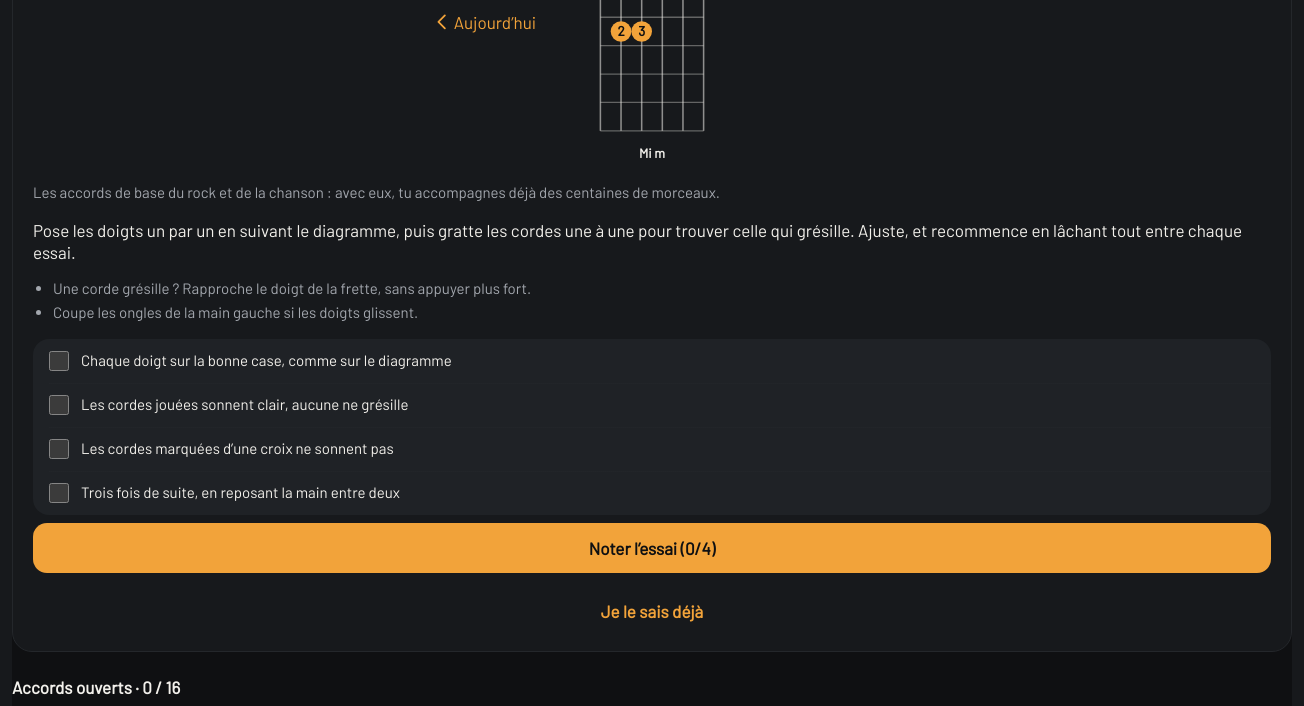
Scenario: parcours des accords › cocher la forme et noter l’essai : validée, enregistrée, la suivante s’ouvre
This screenshot has width=1304, height=706.
(page scrolled)
What coordinates should you click on to do the following:
click the checkbox labelled "Chaque doigt sur la bonne case, comme sur le diagramme"
I would click on:
 (59, 361)
Its box is [49,351,69,371].
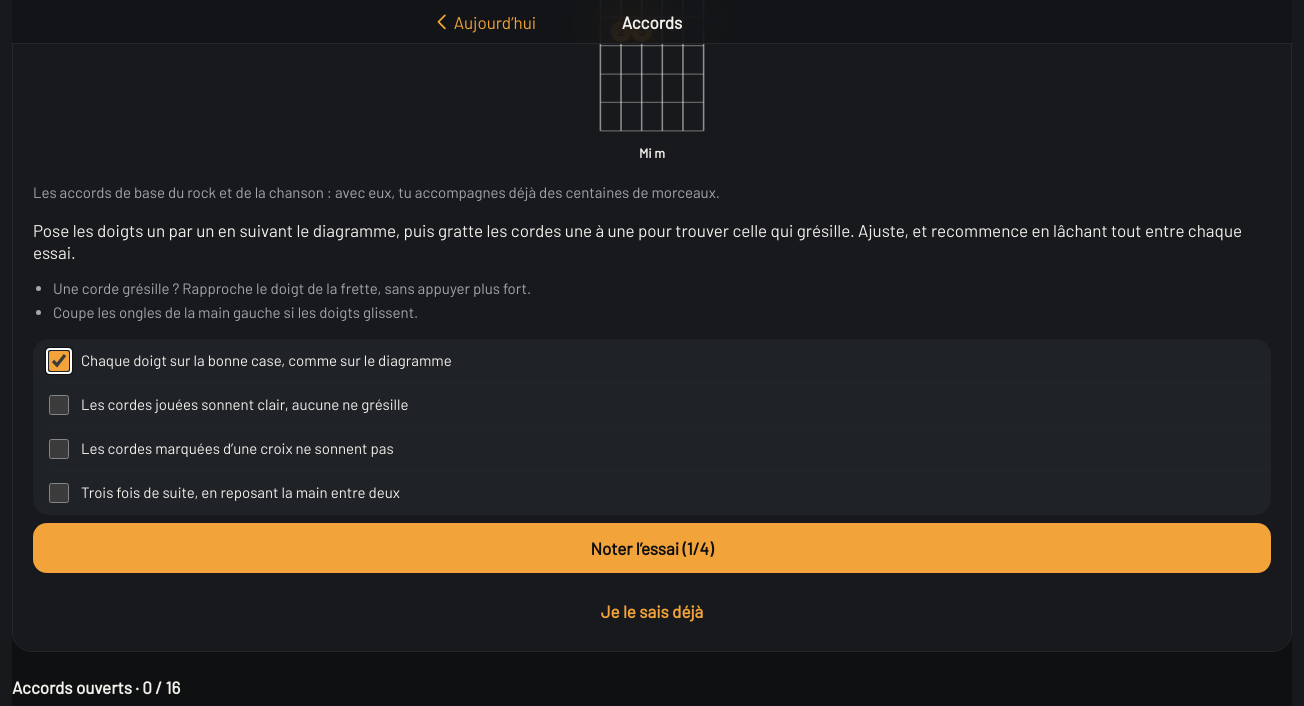
What coordinates should you click on to do the following:
click the checkbox labelled "Les cordes jouées sonnent clair, aucune ne grésille"
I would click on:
 (59, 405)
Its box is [49,395,69,415].
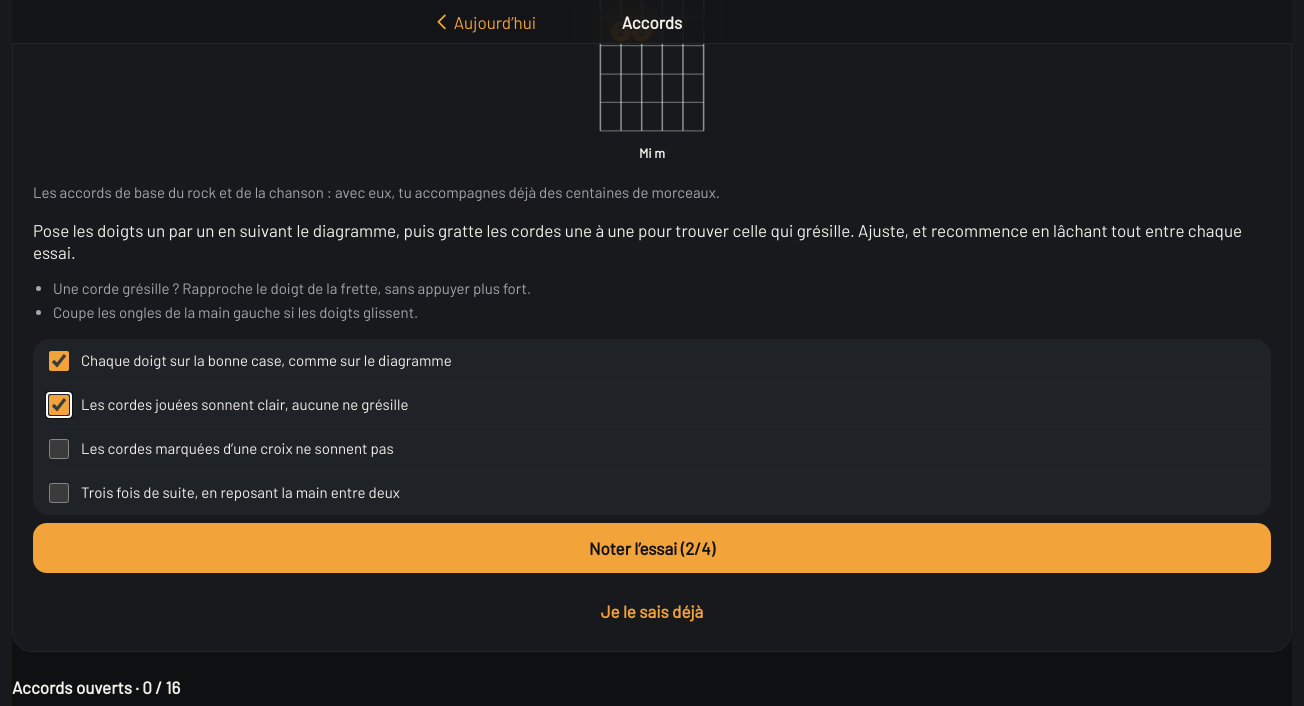
What coordinates should you click on to do the following:
click the checkbox labelled "Les cordes marquées d’une croix ne sonnent pas"
I would click on:
 (59, 449)
Its box is [49,439,69,459].
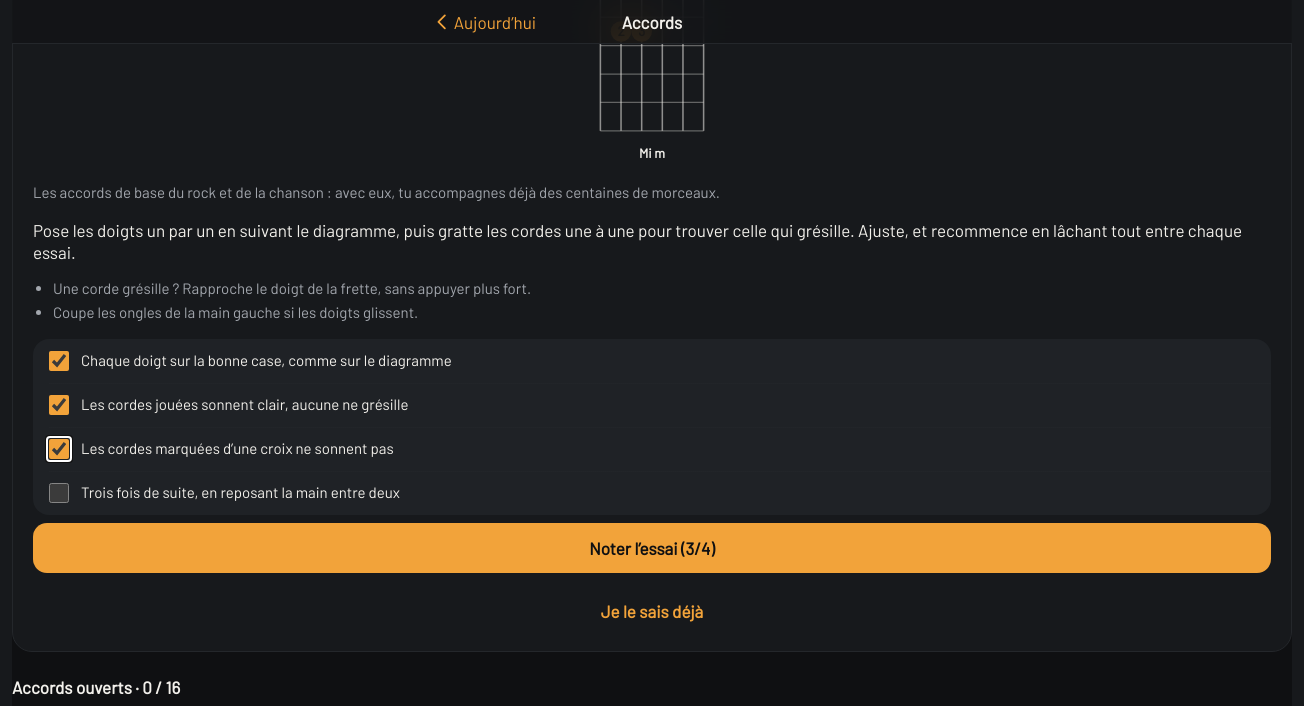
What coordinates should you click on to do the following:
click the checkbox labelled "Trois fois de suite, en reposant la main entre deux"
I would click on:
 (59, 493)
Its box is [49,483,69,503].
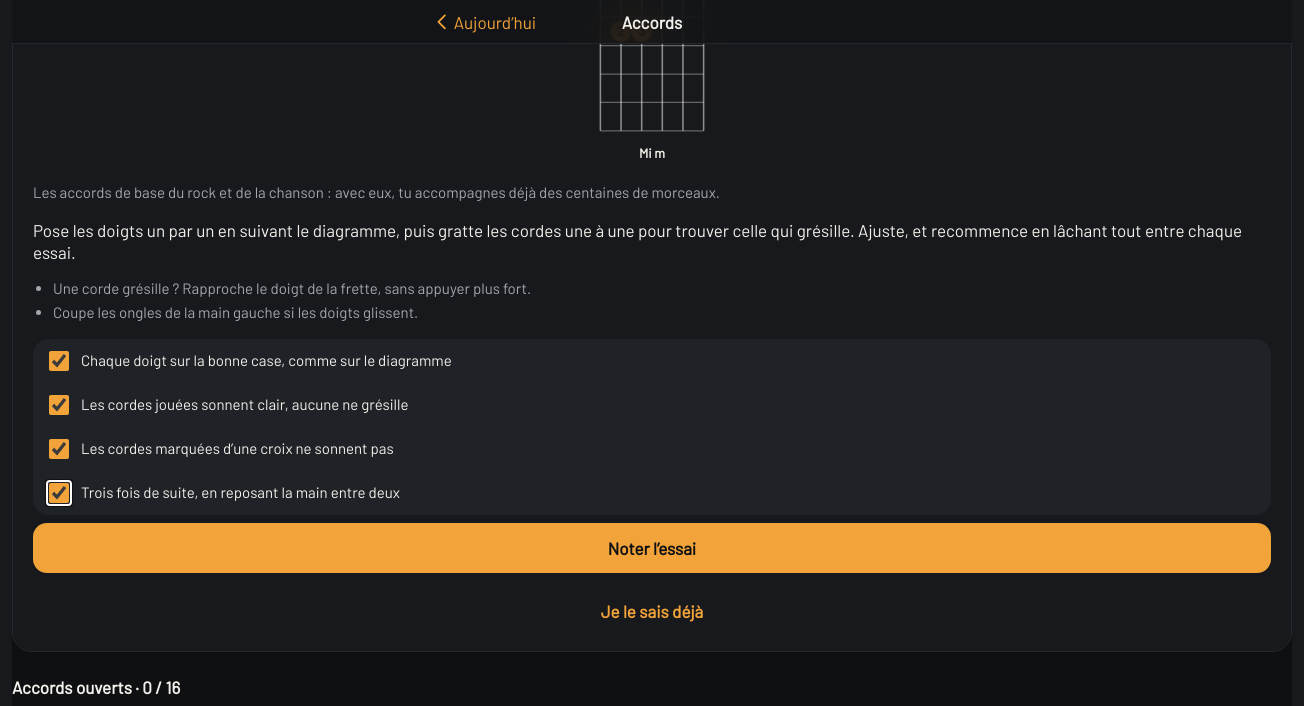
What coordinates should you click on to do the following:
click the button "Noter l’essai"
I would click on:
 (652, 548)
Its box is [33,523,1271,573].
(page scrolled)
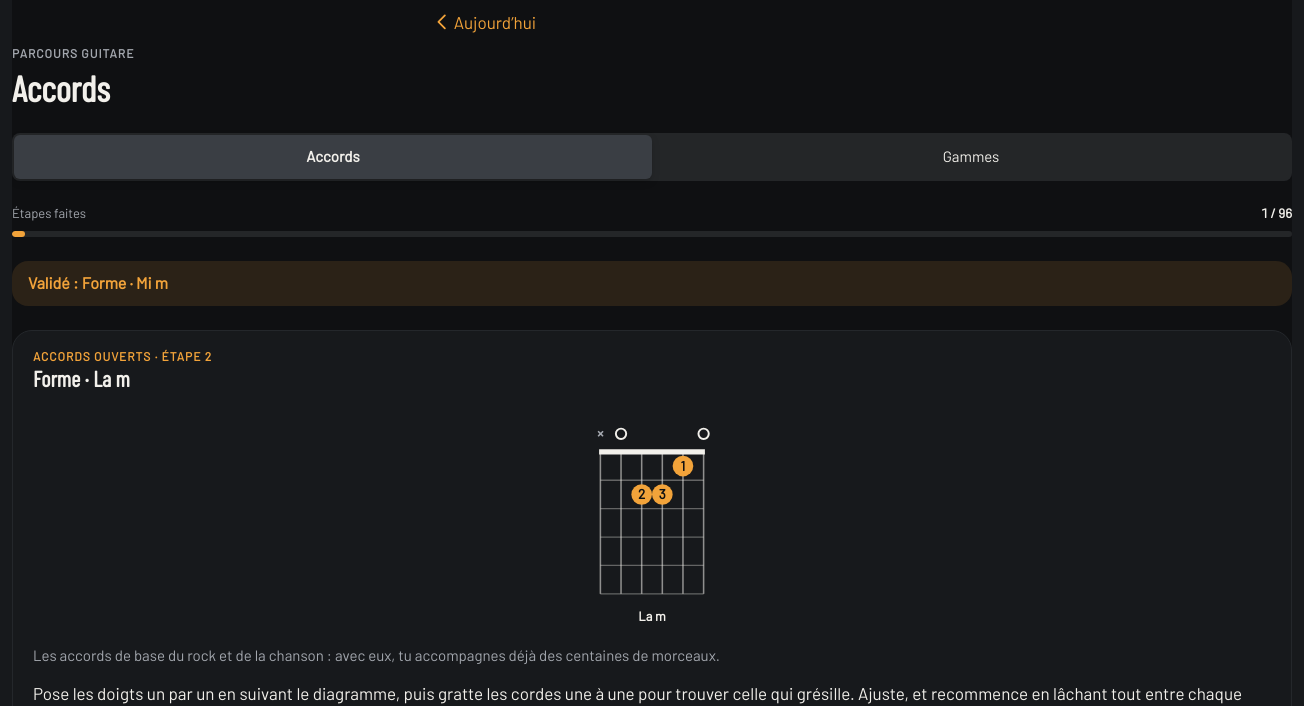
Expected: the heading "Forme · La m" is shown, [33,365,130,391]
Expected: the message reads "Validé : Forme · Mi m", [12,261,1292,306]
